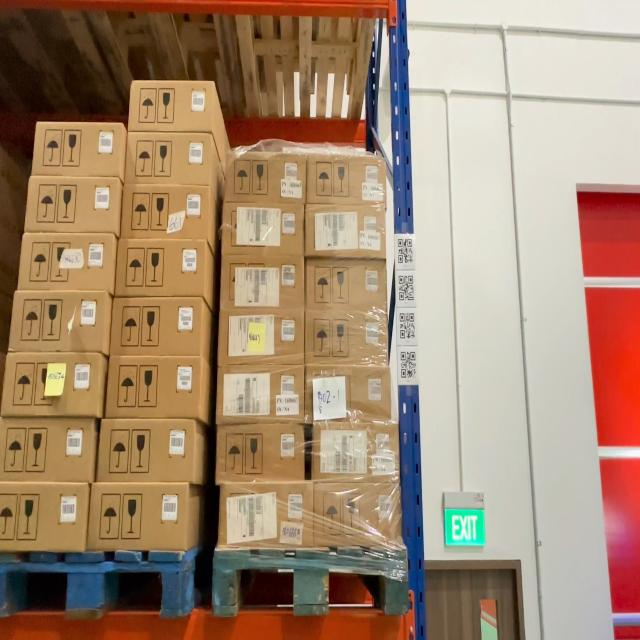box: (86, 482, 188, 551), (2, 354, 104, 418), (216, 484, 313, 548), (97, 419, 195, 482), (314, 480, 402, 547), (105, 357, 200, 418), (10, 290, 106, 350), (17, 233, 115, 290), (110, 296, 201, 356), (216, 425, 306, 485), (23, 178, 119, 233), (31, 122, 123, 178), (304, 364, 390, 422), (312, 421, 399, 478), (217, 367, 304, 424), (116, 239, 205, 294), (121, 185, 210, 237), (219, 310, 304, 364), (220, 256, 304, 310), (129, 79, 215, 131), (125, 131, 211, 182), (304, 310, 386, 363), (305, 203, 385, 257), (221, 204, 305, 255), (306, 259, 386, 311), (224, 152, 305, 202), (306, 155, 386, 205)
